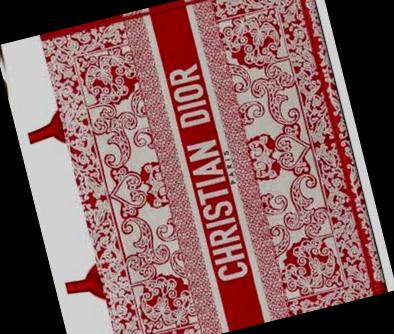DIOR: (147, 48, 266, 292)
